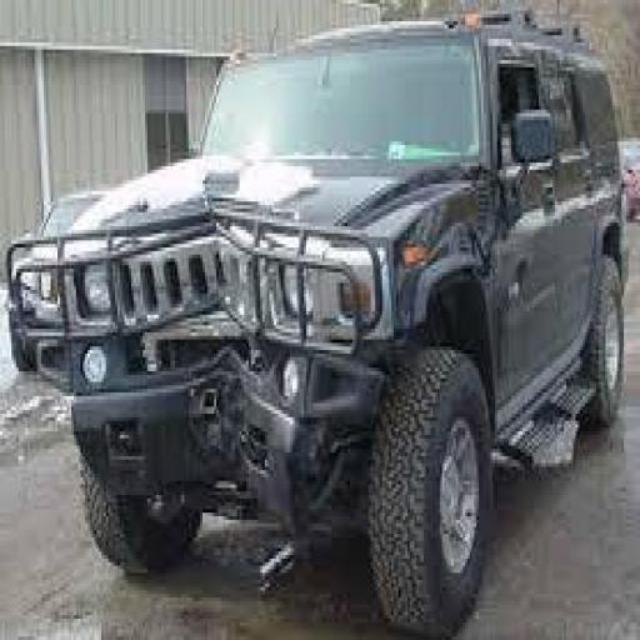dent: (29, 163, 396, 554)
